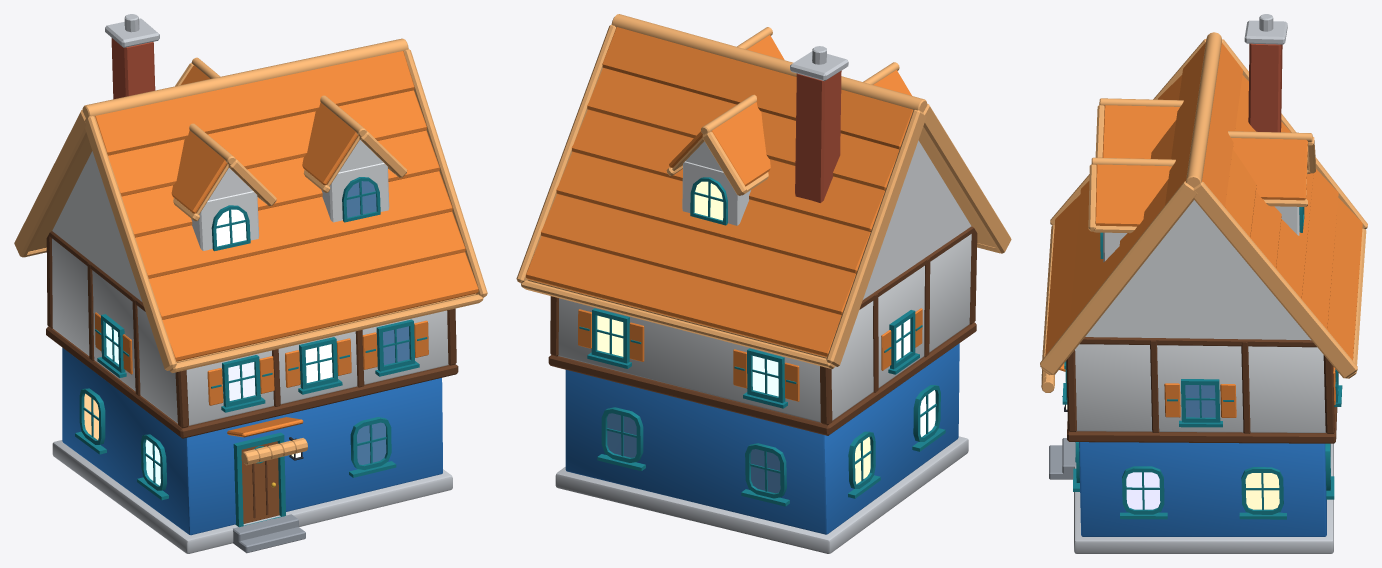
Rendered from casa_torta_lucarnas_laranja.glb.
3 renders of one model, left to right at view 1: azimuth 30°, elevation 25°; view 2: azimuth 150°, elevation 25°; view 3: azimuth 270°, elevation 25°, orthographic. The views are drawn at different scales.
Visible parts, largest first — view 1: casa_torta_lucarnas_laranja; view 2: casa_torta_lucarnas_laranja; view 3: casa_torta_lucarnas_laranja.
Part boxes in pixels (bbox=[...]): casa_torta_lucarnas_laranja: bbox=[14, 14, 487, 553]; casa_torta_lucarnas_laranja: bbox=[516, 14, 1011, 553]; casa_torta_lucarnas_laranja: bbox=[1040, 14, 1367, 553].
Size of the model in its own units: 10.14 by 13.67 by 9.34.
Materials: 7 (1 with a texture image).
